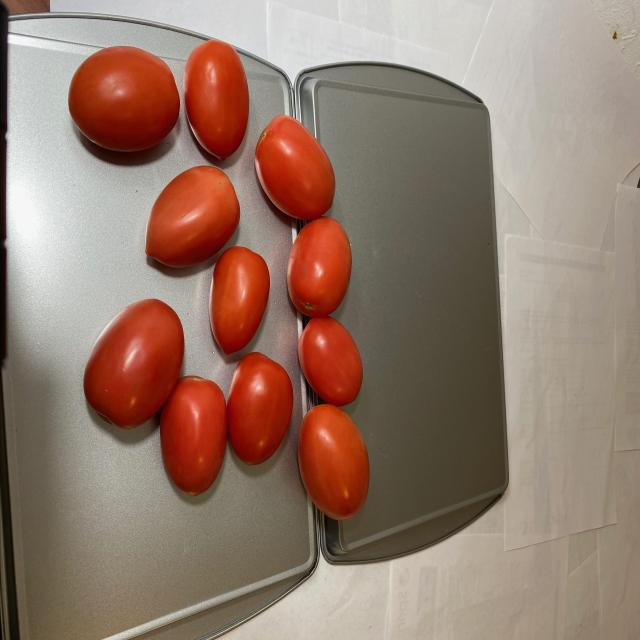tomato: (75, 39, 372, 529)
